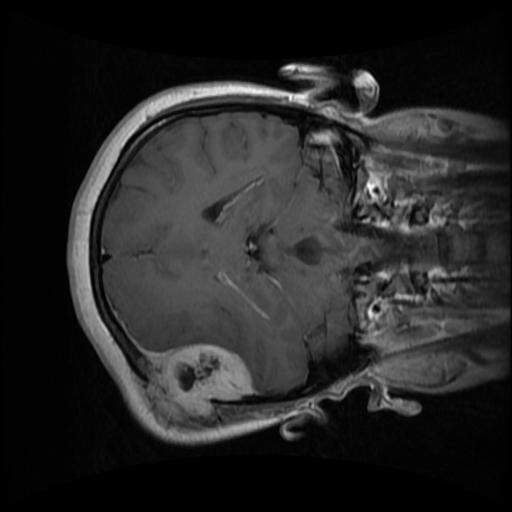meningioma: (146, 343, 252, 418)
